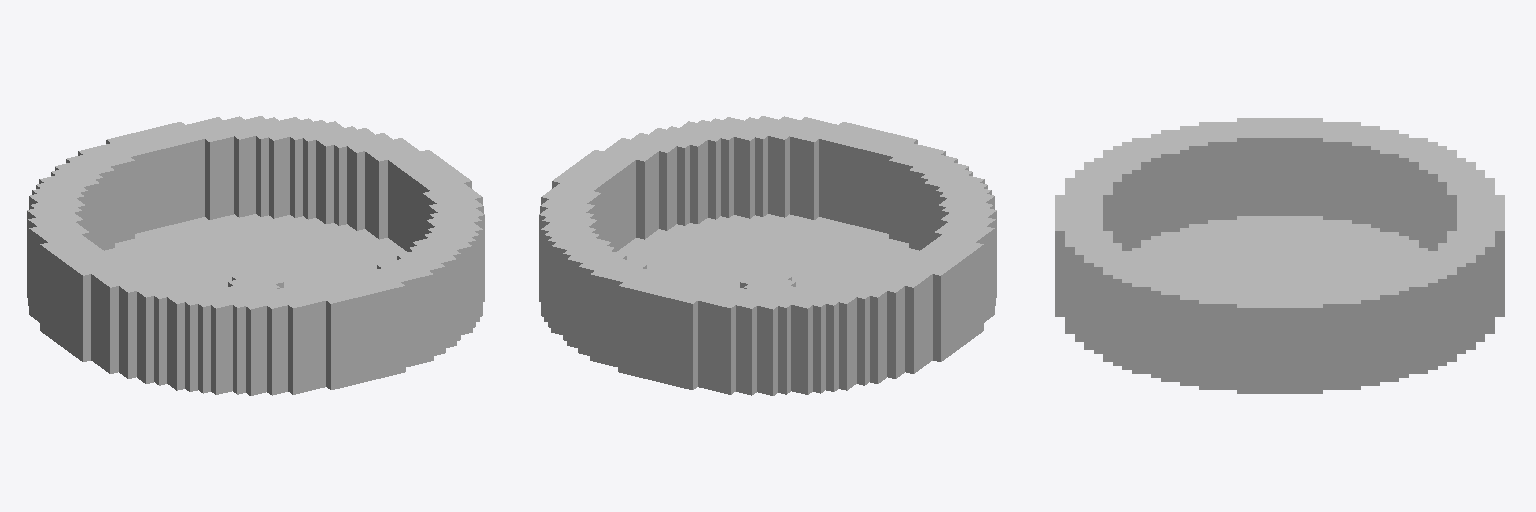
Rendered from pool.obj.
The picture shows the model from 3 angles: view 1: azimuth 30°, elevation 25°; view 2: azimuth 150°, elevation 25°; view 3: azimuth 270°, elevation 25°; orthographic projection.
Visible parts, largest first — view 1: pool; view 2: pool; view 3: pool.
Part boxes in pixels (left/top/right/bottom): pool: left=27, top=116, right=484, bottom=395; pool: left=539, top=116, right=996, bottom=395; pool: left=1055, top=118, right=1504, bottom=393.
Size of the model in its own units: 47 by 10 by 47.